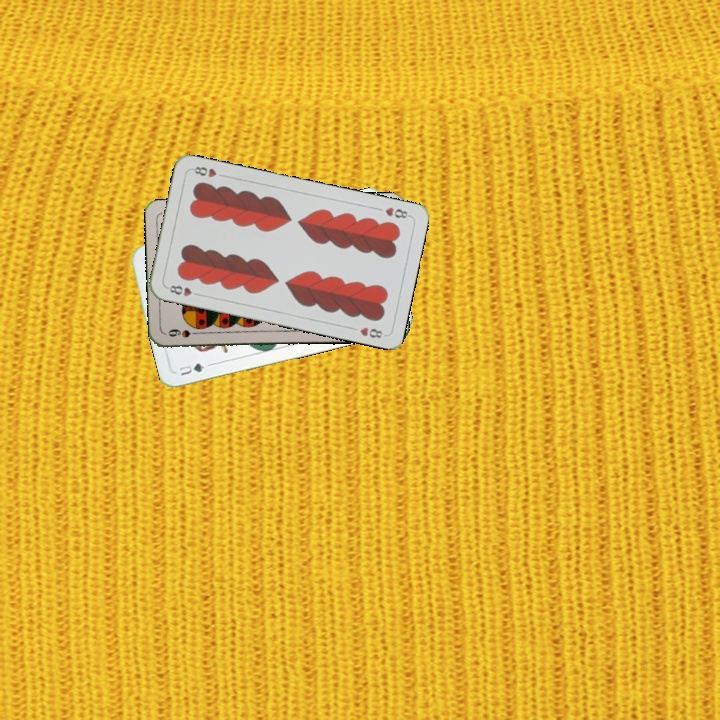GU: (175, 359, 207, 378)
H8: (163, 281, 203, 299), (381, 203, 413, 221)
S9: (164, 325, 204, 340)
